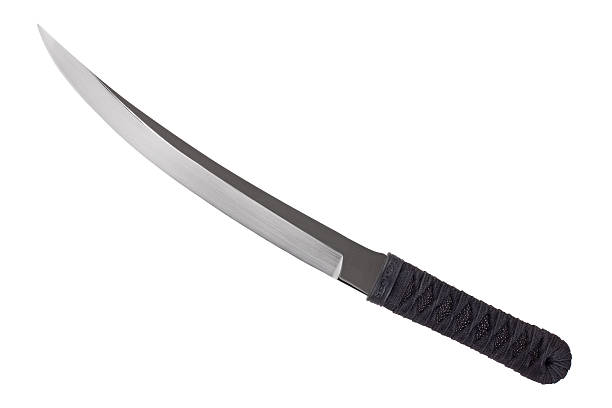knife: (35, 21, 572, 385)
